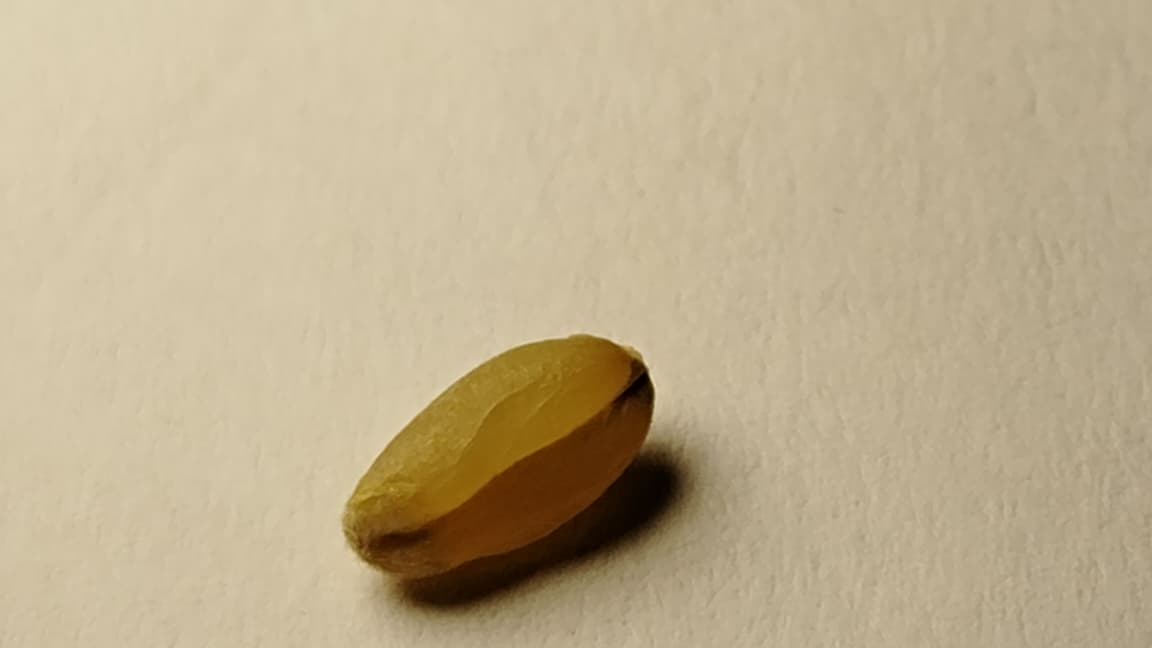healthy: (343, 333, 654, 577)
